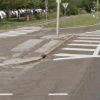Crosswalk: (66, 21, 100, 76)
